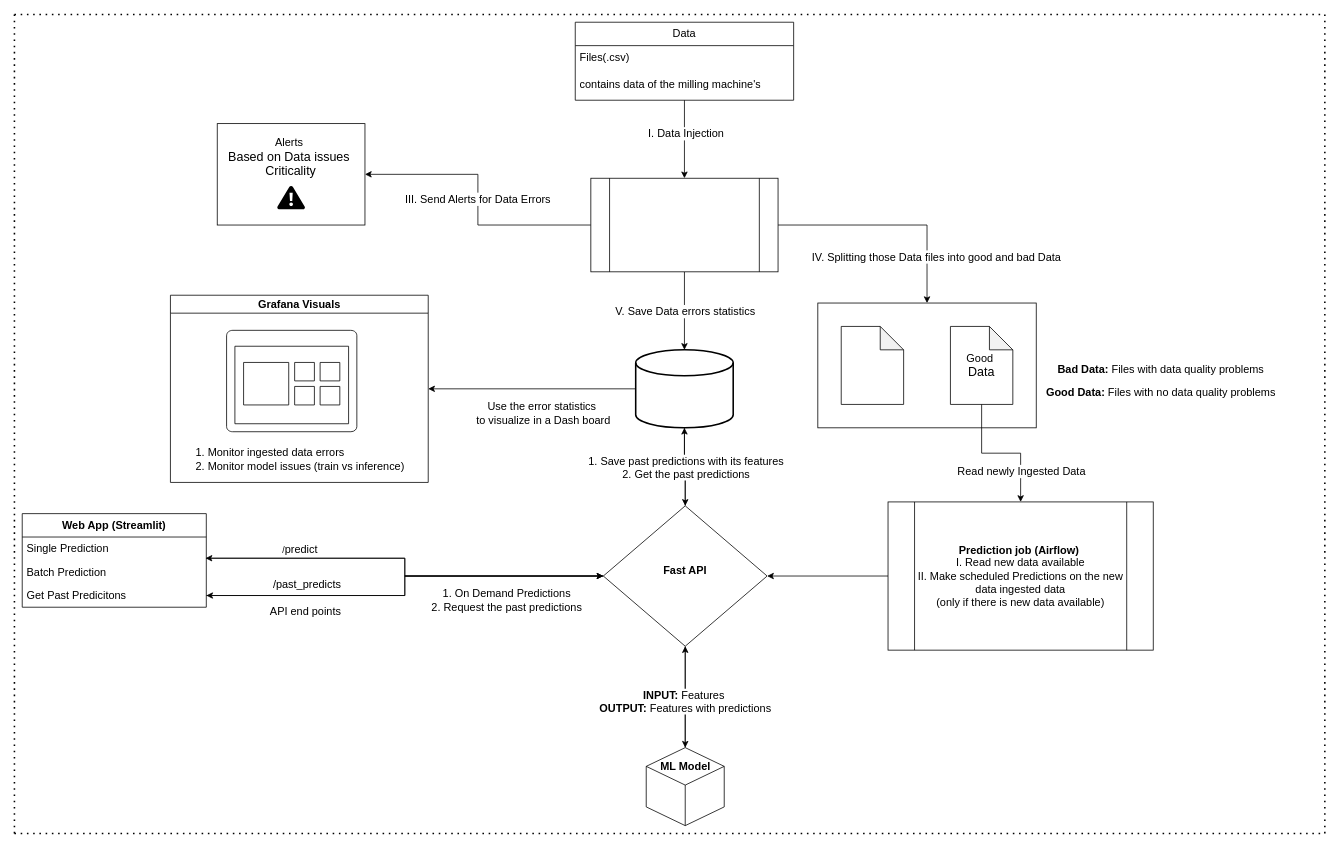
Image size: 1339x848. Some labels were removed from this diagram. The shapes that lost their labels are listed below. From the top down, each one's centre as x and y in pixels, then its label:
the point at 684,224: Data injection job (Airflow) 4 tasks II. Data Validation
the point at 872,365: Bad Data
the point at 684,388: Postgres SQL DataBase
